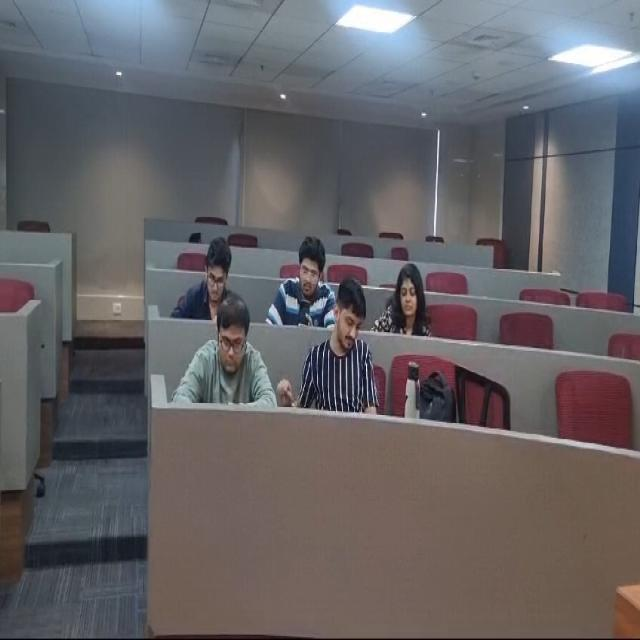cheating: (280, 286, 381, 418), (264, 226, 337, 331)
non-cheating: (186, 300, 274, 416), (377, 252, 438, 344), (176, 234, 234, 317)
